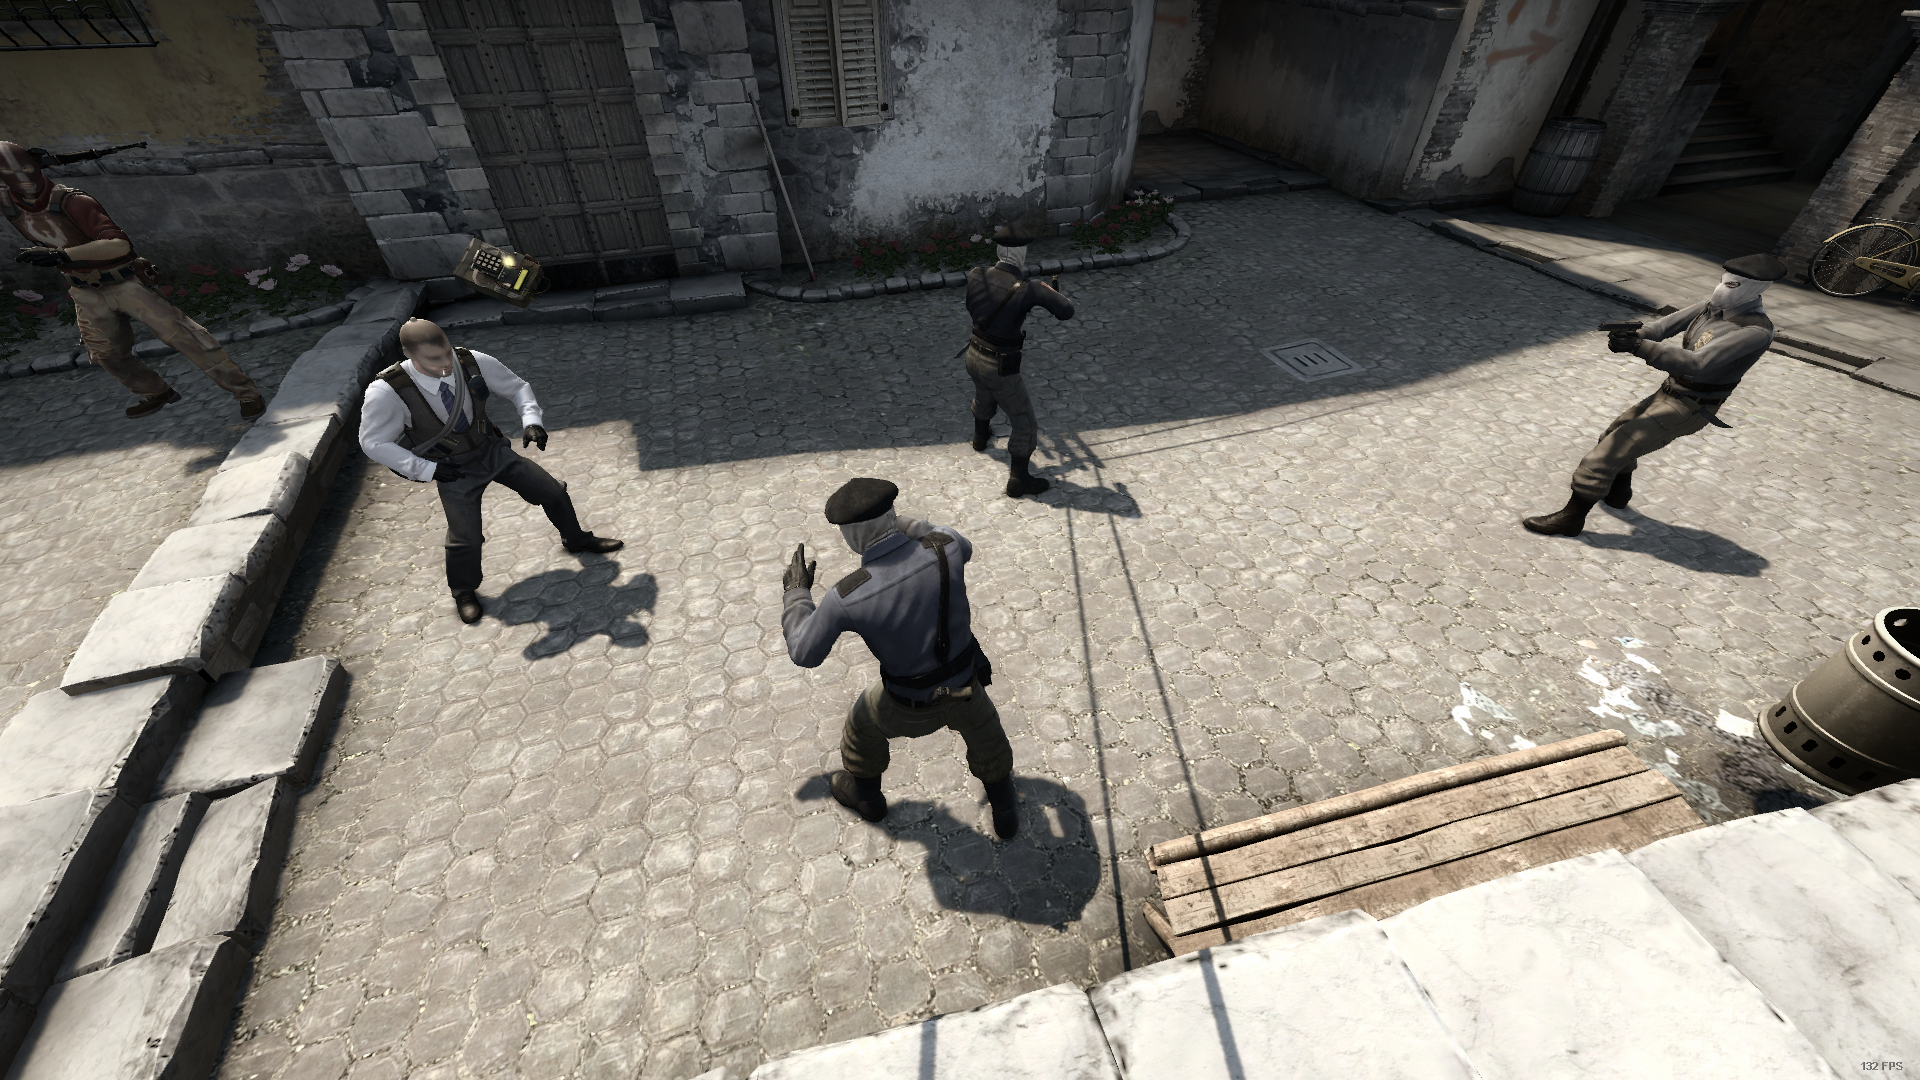t: (769, 469, 1039, 848), (1520, 247, 1782, 607), (943, 225, 1072, 504)
